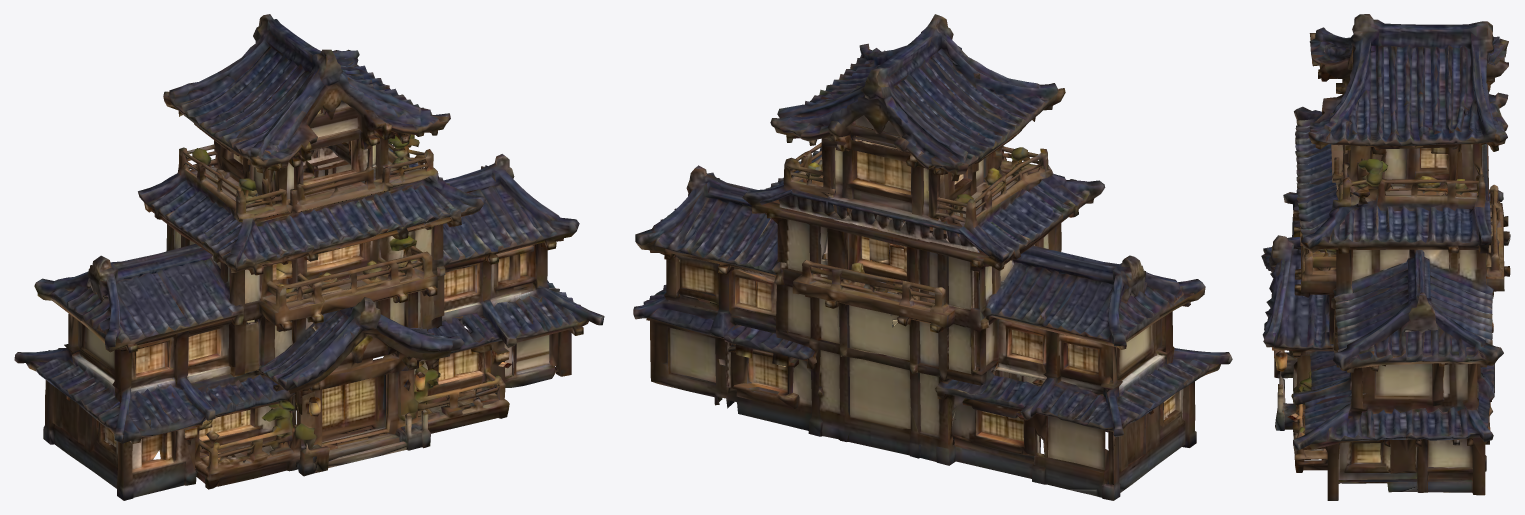
The picture shows the model from 3 angles, left to right: view 1: azimuth 30°, elevation 25°; view 2: azimuth 150°, elevation 25°; view 3: azimuth 270°, elevation 25°; orthographic projection. The views are drawn at different scales.
Parts seen in each view (by area): view 1: compact__skyscraper_3__native_mobile; view 2: compact__skyscraper_3__native_mobile; view 3: compact__skyscraper_3__native_mobile.
Part boxes in pixels (box(x1,y1,x2,y2)): compact__skyscraper_3__native_mobile: box(14, 14, 604, 500); compact__skyscraper_3__native_mobile: box(633, 14, 1232, 500); compact__skyscraper_3__native_mobile: box(1261, 14, 1510, 500).
Bounding box in the file's own units: 1 × 0.7347 × 0.4285.
Materials: 1 (1 with a texture image).
